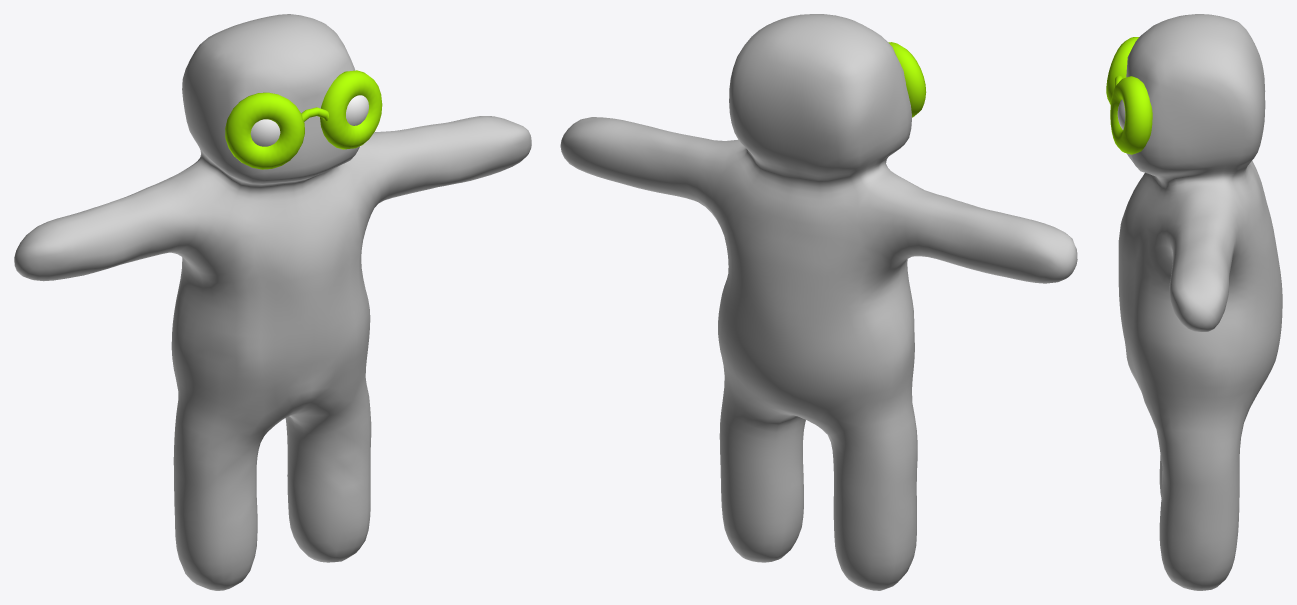
File: Prota Ready Pal Lio.fbx
The picture shows the model from 3 angles, left to right: view 1: azimuth 30°, elevation 25°; view 2: azimuth 150°, elevation 25°; view 3: azimuth 270°, elevation 25°; orthographic projection. The views are drawn at different scales.
Visible parts, largest first — view 1: ZBrush_defualt_group, Torus002, Torus001, Sphere002; view 2: ZBrush_defualt_group, Torus002; view 3: ZBrush_defualt_group, Torus001, Torus002.
Part boxes in pixels (x1,y1,x2,y2): ZBrush_defualt_group: (14,14,531,590); Torus002: (225,92,304,169); Torus001: (320,70,382,149); Sphere002: (250,119,280,146); ZBrush_defualt_group: (560,14,1077,590); Torus002: (888,42,926,117); ZBrush_defualt_group: (1118,14,1282,590); Torus001: (1110,76,1152,154); Torus002: (1106,37,1138,104).
Size of the model in its own units: 513 by 525 by 157.
